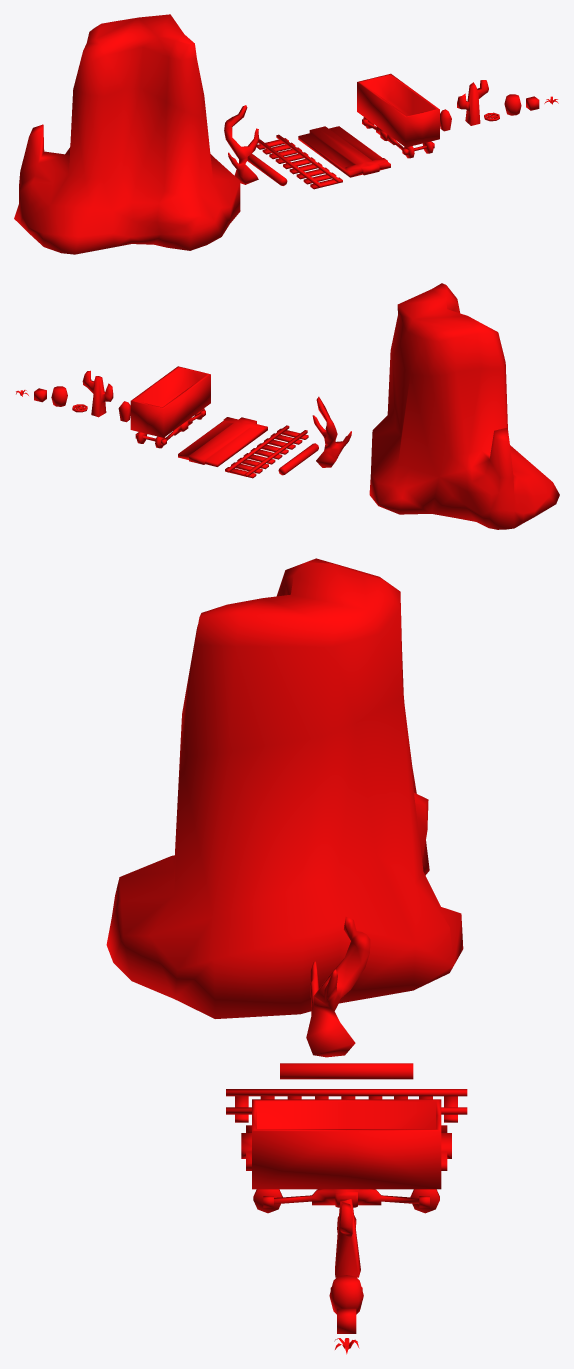
Rendered from Map_03_Color.FBX.
The picture shows the model from 3 angles, top to bottom: view 1: azimuth 30°, elevation 25°; view 2: azimuth 150°, elevation 25°; view 3: azimuth 270°, elevation 25°; orthographic projection. The views are drawn at different scales.
Visible parts, largest first — view 1: BigStorn, Train_Body, TrainUp, railWay, Desert_Tree, Cactus_B, Log, WarterBox; view 2: BigStorn, Train_Body, TrainUp, railWay, Desert_Tree, Cactus_B, Log; view 3: BigStorn, Train_Body, Desert_Tree, railWay, Log, Cactus_B, WarterBox.
Boxes of the visible parts, x1,y1,x2,y2 form: BigStorn: [14, 14, 240, 254]; Train_Body: [357, 73, 439, 158]; TrainUp: [298, 126, 390, 177]; railWay: [256, 134, 342, 189]; Desert_Tree: [224, 105, 259, 184]; Cactus_B: [457, 80, 488, 125]; Log: [247, 154, 287, 185]; WarterBox: [504, 94, 521, 115]; BigStorn: [369, 283, 559, 529]; Train_Body: [130, 366, 210, 448]; TrainUp: [178, 417, 267, 466]; railWay: [225, 425, 308, 478]; Desert_Tree: [312, 396, 351, 467]; Cactus_B: [82, 370, 113, 417]; Log: [278, 443, 318, 475]; BigStorn: [106, 558, 463, 1018]; Train_Body: [252, 1099, 441, 1213]; Desert_Tree: [306, 917, 370, 1057]; railWay: [226, 1089, 467, 1122]; Log: [280, 1063, 413, 1079]; Cactus_B: [335, 1199, 360, 1277]; WarterBox: [329, 1275, 363, 1314].
Bounding box in the file's own units: 25.33 × 8.38 × 7.59.
